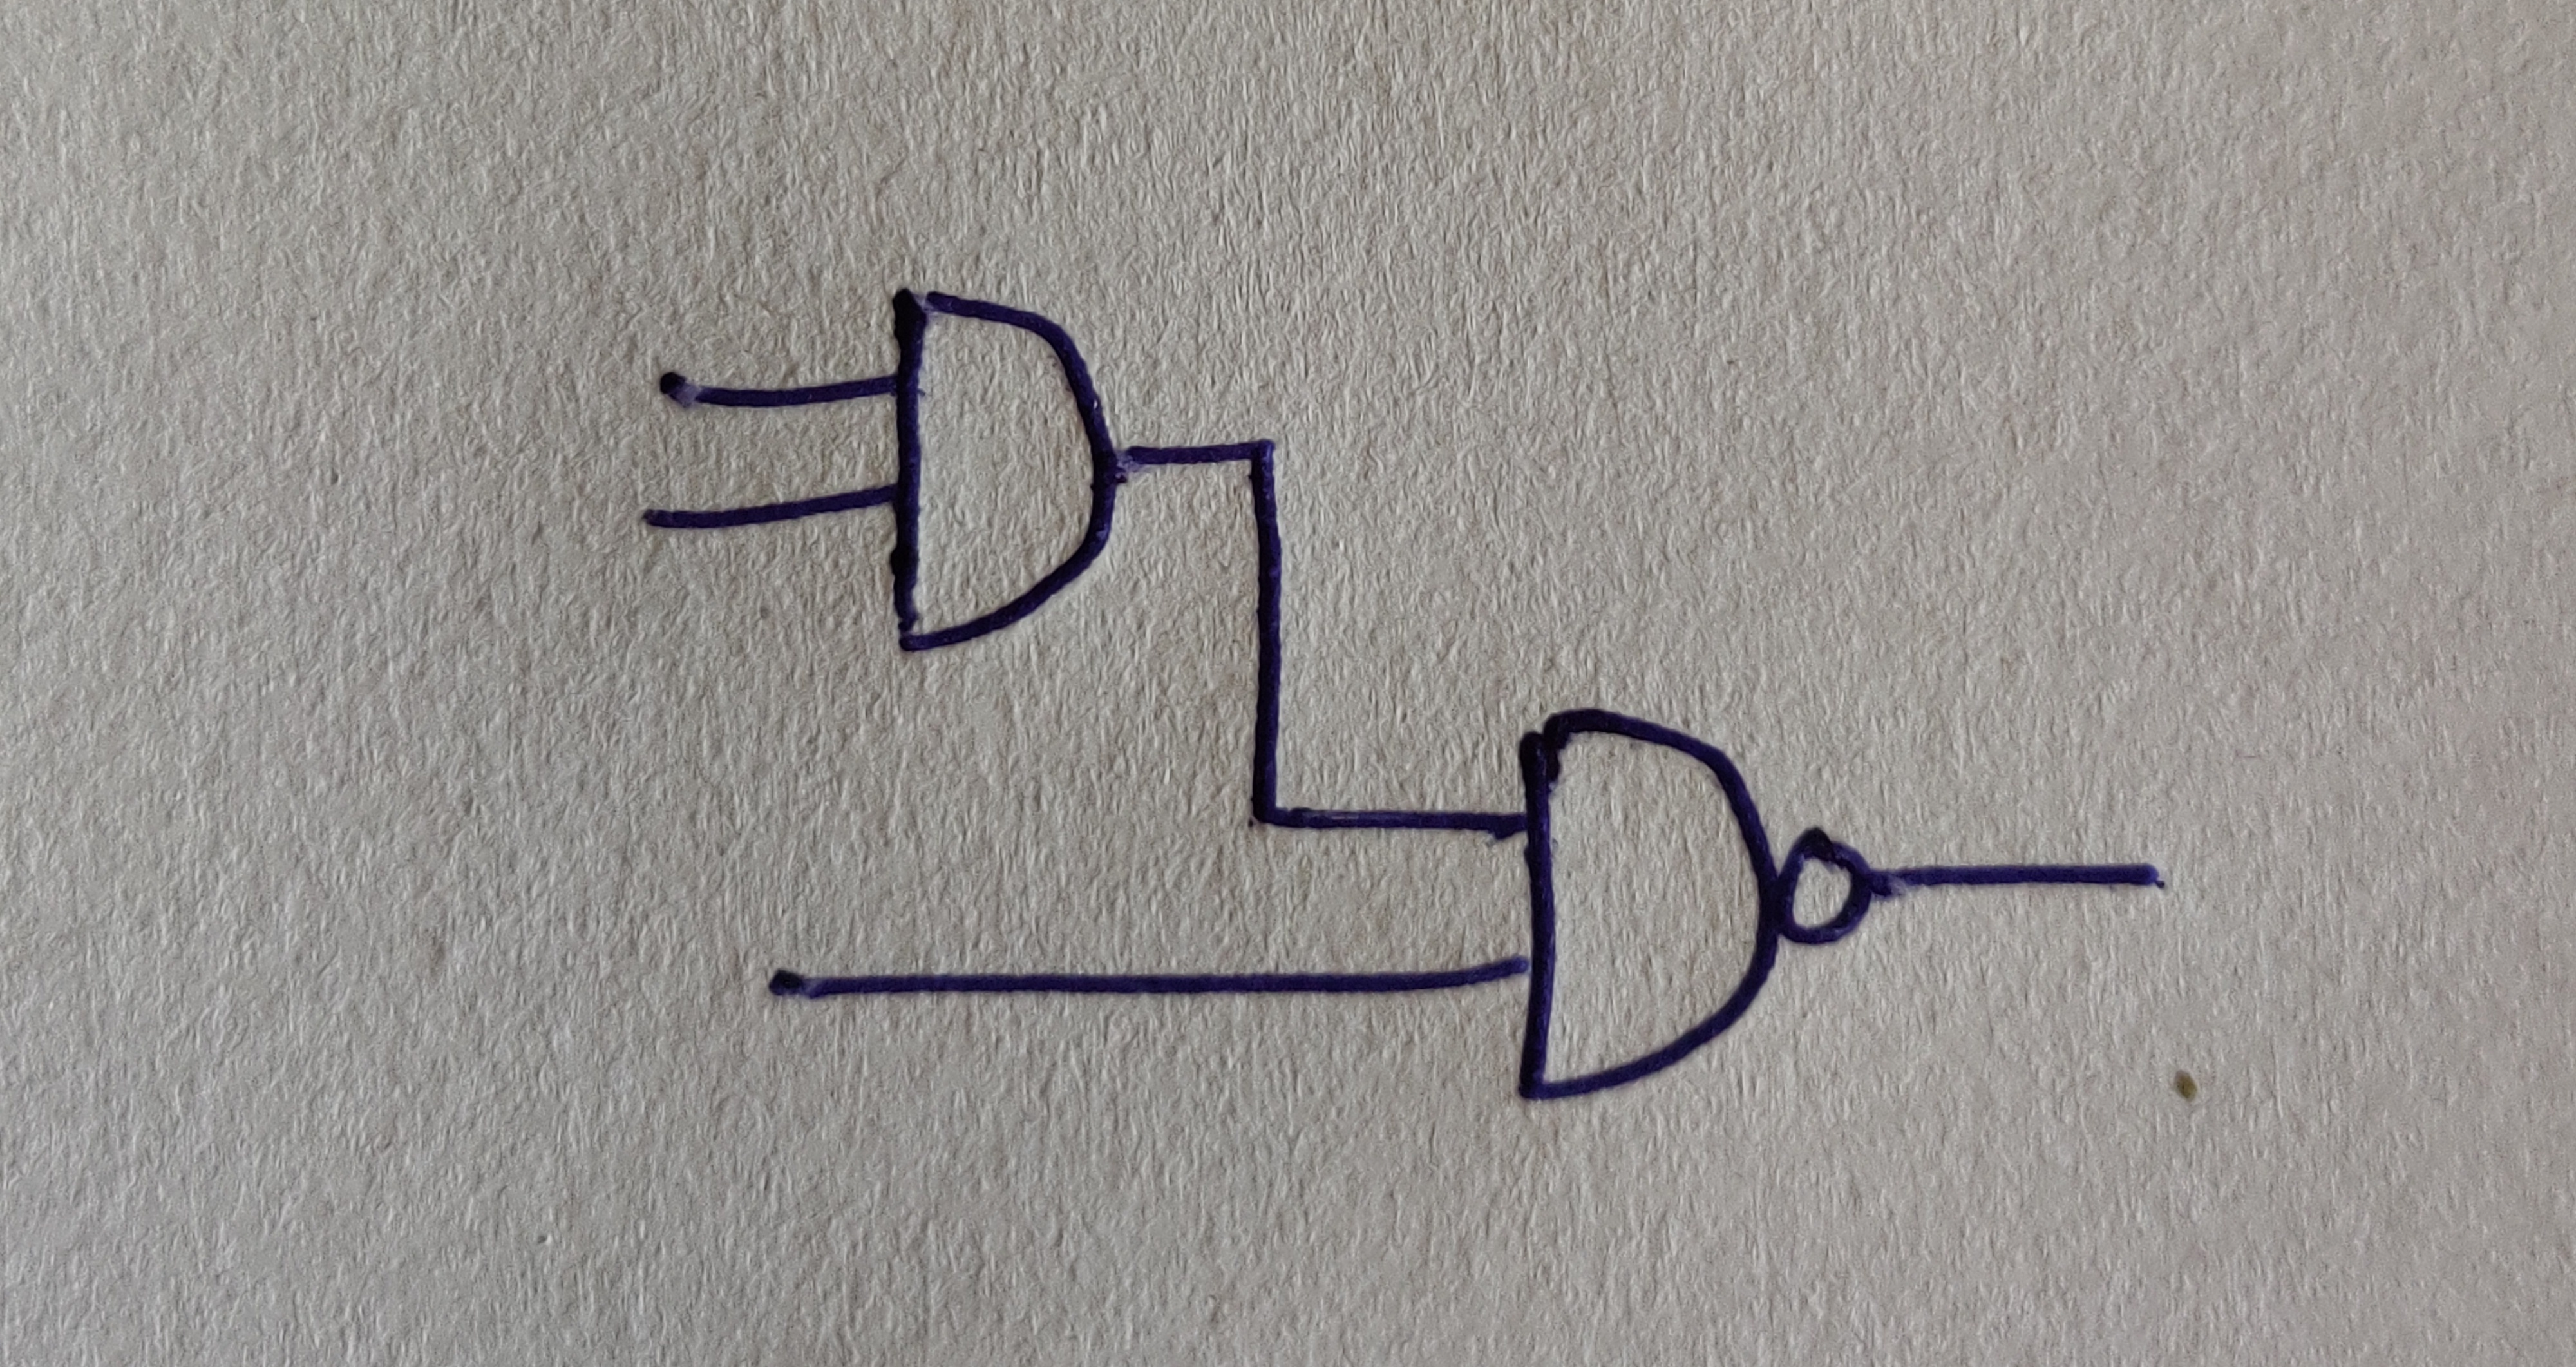and: (1518, 707, 1777, 1103), (888, 285, 1119, 651)
not: (1770, 828, 1872, 948)
